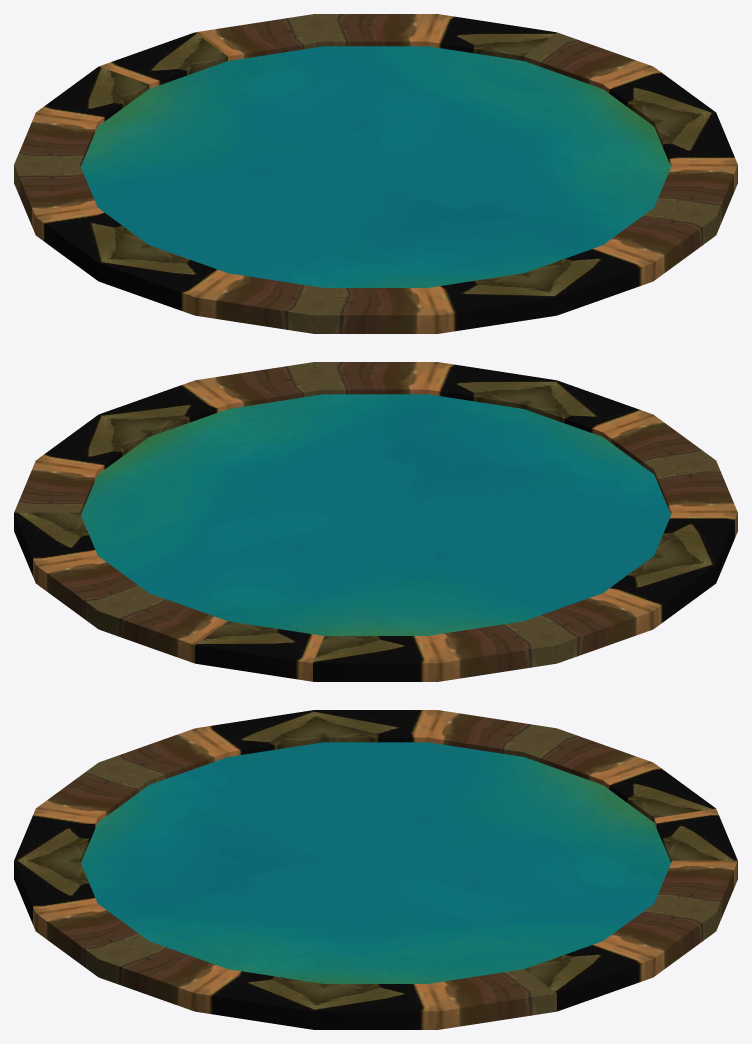
File: guangmingjing03.FBX
The picture shows the model from 3 angles, top to bottom: view 1: azimuth 30°, elevation 25°; view 2: azimuth 150°, elevation 25°; view 3: azimuth 270°, elevation 25°; orthographic projection.
Visible parts, largest first — view 1: xinshuichi01; view 2: xinshuichi01; view 3: xinshuichi01.
Part boxes in pixels (x1,y1,x2,y2): xinshuichi01: (14,14,737,333); xinshuichi01: (14,362,737,681); xinshuichi01: (14,710,737,1029).
Bounding box in the file's own units: 104 × 105 × 2.95.
